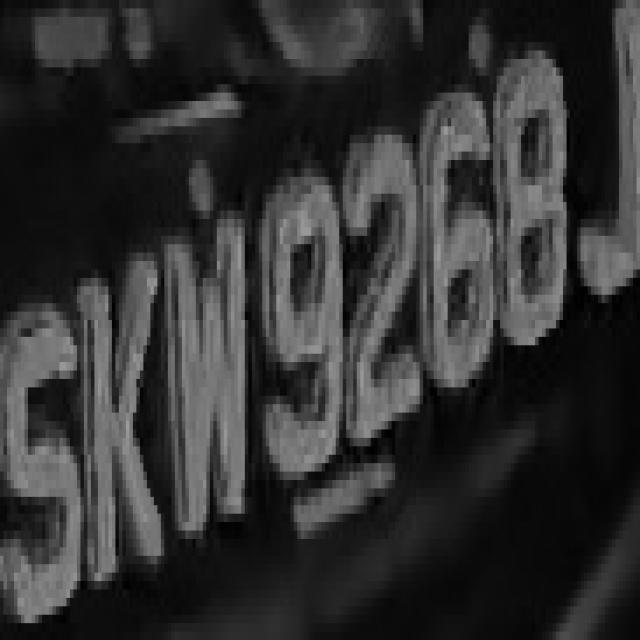2: (339, 126, 430, 430)
6: (416, 110, 500, 404)
8: (490, 59, 577, 379)
9: (266, 151, 350, 497)
J: (580, 42, 640, 328)
K: (73, 244, 175, 581)
S: (7, 303, 91, 615)
W: (157, 210, 252, 539)
